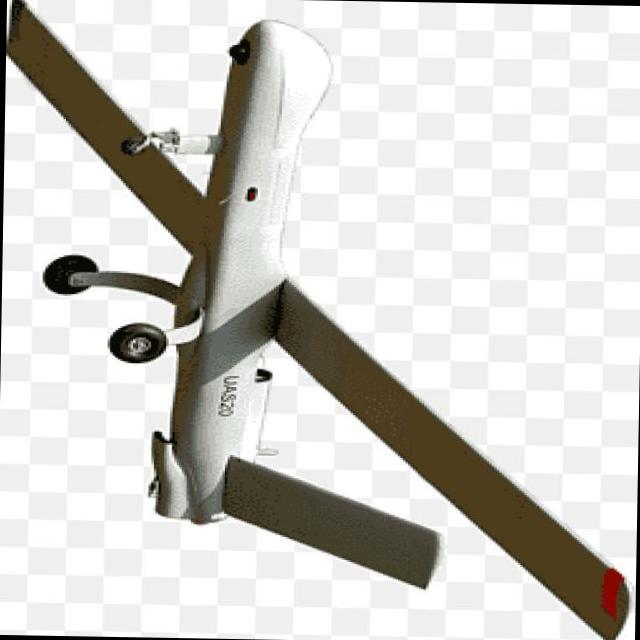UAV: (12, 3, 623, 630)
